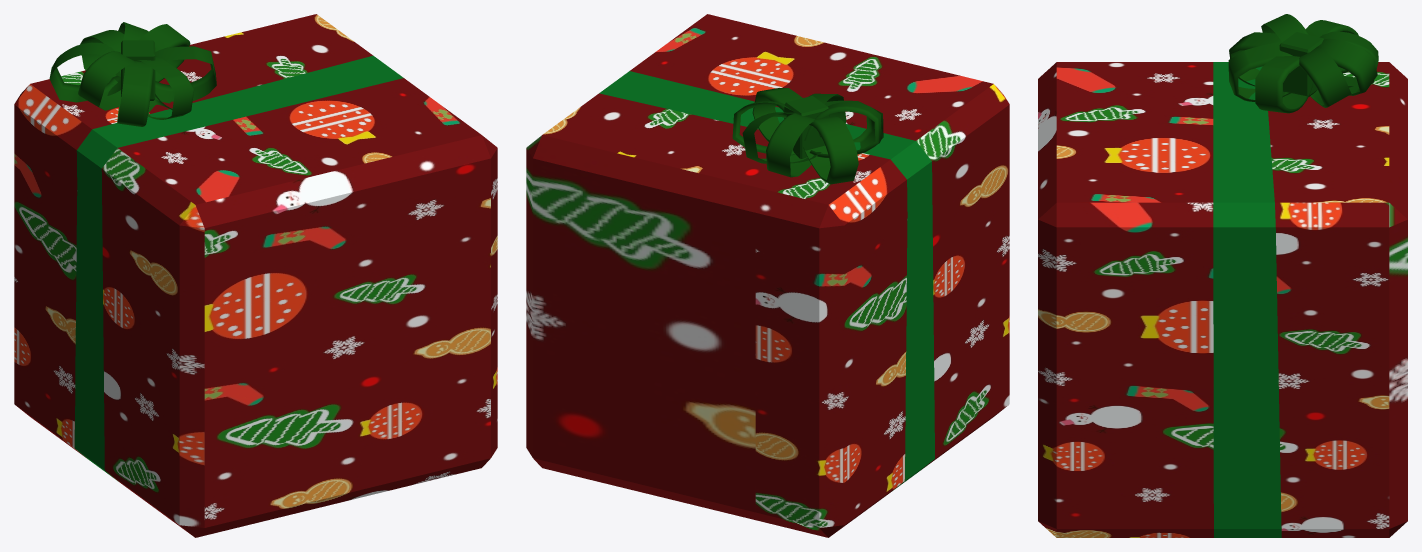
The model's file is Regalo corregido 3.fbx.
3 renders of one model, left to right at view 1: azimuth 30°, elevation 25°; view 2: azimuth 150°, elevation 25°; view 3: azimuth 270°, elevation 25°, orthographic.
Visible parts, largest first — view 1: Cube.114_Cube.115, BezierCurve.006_BezierCurve.007, BezierCurve.003_BezierCurve.001, BezierCurve.001_BezierCurve.001, BezierCurve.004_BezierCurve.005, BezierCurve.001, BezierCurve.003, Cube.002, BezierCurve.005_BezierCurve.006; view 2: Cube.114_Cube.115, BezierCurve.001, BezierCurve.005_BezierCurve.006, Cube.002, BezierCurve.001_BezierCurve.001, BezierCurve.006_BezierCurve.007, BezierCurve.007_BezierCurve.008, BezierCurve.003, BezierCurve.003_BezierCurve.001; view 3: Cube.114_Cube.115, BezierCurve.001_BezierCurve.001, BezierCurve.003, BezierCurve.007_BezierCurve.008, BezierCurve.004_BezierCurve.005, Cube.002, BezierCurve.003_BezierCurve.001, BezierCurve.006_BezierCurve.007, BezierCurve.005_BezierCurve.006, BezierCurve.001.
Part boxes in pixels (x1=…): Cube.114_Cube.115: x1=14, y1=14, x2=497, y2=537; BezierCurve.006_BezierCurve.007: x1=78, y1=51, x2=136, y2=110; BezierCurve.003_BezierCurve.001: x1=117, y1=61, x2=153, y2=126; BezierCurve.001_BezierCurve.001: x1=155, y1=46, x2=216, y2=103; BezierCurve.004_BezierCurve.005: x1=137, y1=56, x2=194, y2=119; BezierCurve.001: x1=49, y1=42, x2=120, y2=102; BezierCurve.003: x1=139, y1=24, x2=190, y2=81; Cube.002: x1=121, y1=40, x2=155, y2=100; BezierCurve.005_BezierCurve.006: x1=80, y1=30, x2=124, y2=73; Cube.114_Cube.115: x1=526, y1=14, x2=1009, y2=537; BezierCurve.001: x1=803, y1=116, x2=858, y2=184; BezierCurve.005_BezierCurve.006: x1=766, y1=113, x2=824, y2=177; Cube.002: x1=784, y1=96, x2=829, y2=158; BezierCurve.001_BezierCurve.001: x1=752, y1=88, x2=802, y2=141; BezierCurve.006_BezierCurve.007: x1=804, y1=102, x2=881, y2=157; BezierCurve.007_BezierCurve.008: x1=742, y1=112, x2=821, y2=163; BezierCurve.003: x1=732, y1=101, x2=808, y2=155; BezierCurve.003_BezierCurve.001: x1=824, y1=100, x2=883, y2=154; Cube.114_Cube.115: x1=1038, y1=62, x2=1407, y2=537; BezierCurve.001_BezierCurve.001: x1=1255, y1=56, x2=1313, y2=113; BezierCurve.003: x1=1299, y1=46, x2=1351, y2=107; BezierCurve.007_BezierCurve.008: x1=1320, y1=38, x2=1377, y2=95; BezierCurve.004_BezierCurve.005: x1=1228, y1=42, x2=1292, y2=101; Cube.002: x1=1279, y1=32, x2=1323, y2=96; BezierCurve.003_BezierCurve.001: x1=1229, y1=32, x2=1281, y2=86; BezierCurve.006_BezierCurve.007: x1=1261, y1=14, x2=1308, y2=41; BezierCurve.005_BezierCurve.006: x1=1319, y1=31, x2=1378, y2=87; BezierCurve.001: x1=1305, y1=20, x2=1358, y2=73.
Size of the model in its own units: 89.79 by 105 by 89.79.
3 materials, 1 textured.
